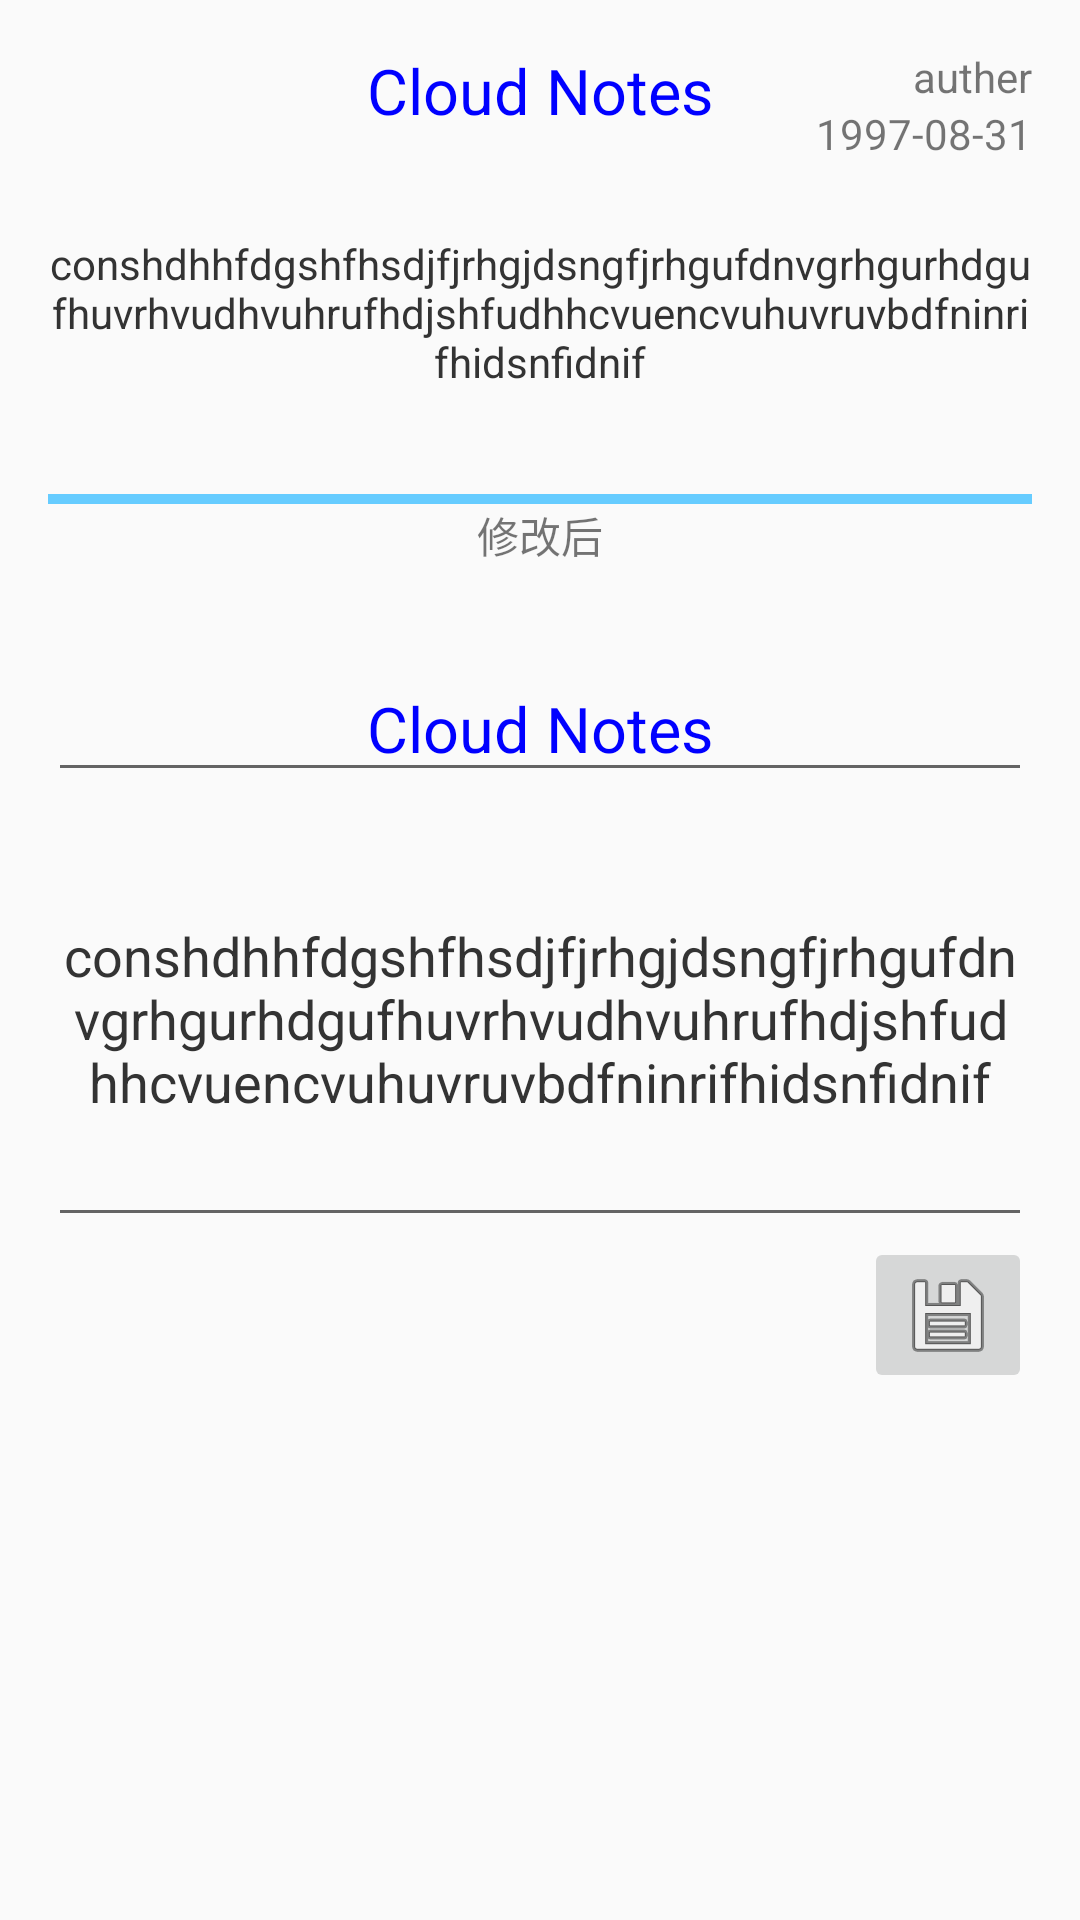

Icons on this 1080w x 1920h Android screen, each with its box as (x1, y1, x2, y2):
save: (876, 1255, 1020, 1375)
